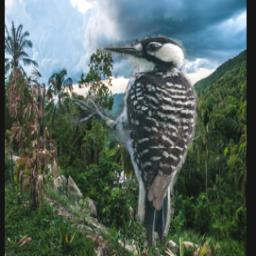Woodpecker: (66, 36, 202, 248)
